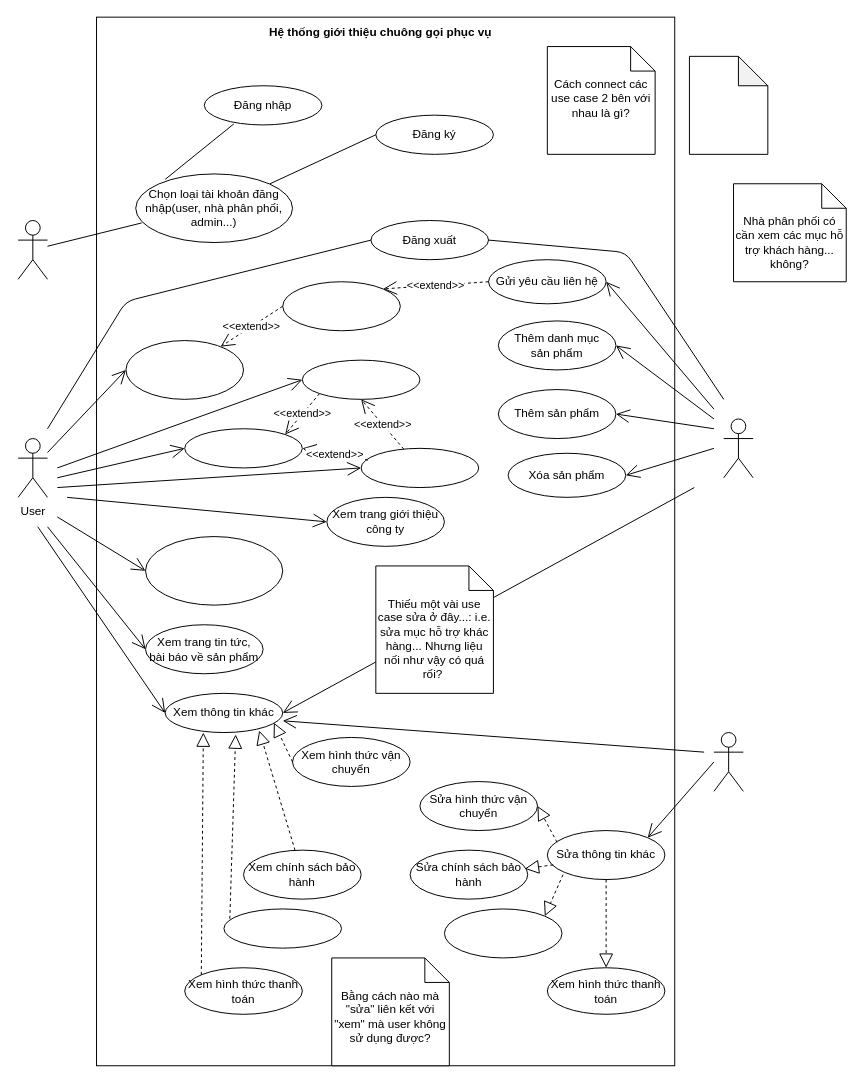
The diagram is 863 pixels wide and 1083 high, and some of its shapes have lost their labels. Each missing label, with the box of its shape:
Admin: (713, 732, 743, 791)
Guest: (17, 220, 48, 279)
Nhà phân phối: (723, 418, 753, 478)
Sửa chính sách đổi trả: (443, 908, 562, 958)
Tìm kiếm sản phẩm: (301, 359, 420, 399)
Xem chi tiết sản phẩm: (360, 447, 479, 488)
Xem chính sách đổi trả: (223, 908, 342, 948)
xem gửi yêu cầu liên hệ -Kiểu mũi tên thế nào: (688, 55, 768, 154)
Xem mục hỗ trợ khách hàng: (125, 340, 244, 399)
Xem trang sản phẩm: (184, 428, 302, 468)
Xem trang thông tin liên hệ nhà phân phối: (145, 536, 283, 605)
Điền thông tin liên hệ: (282, 281, 400, 331)
